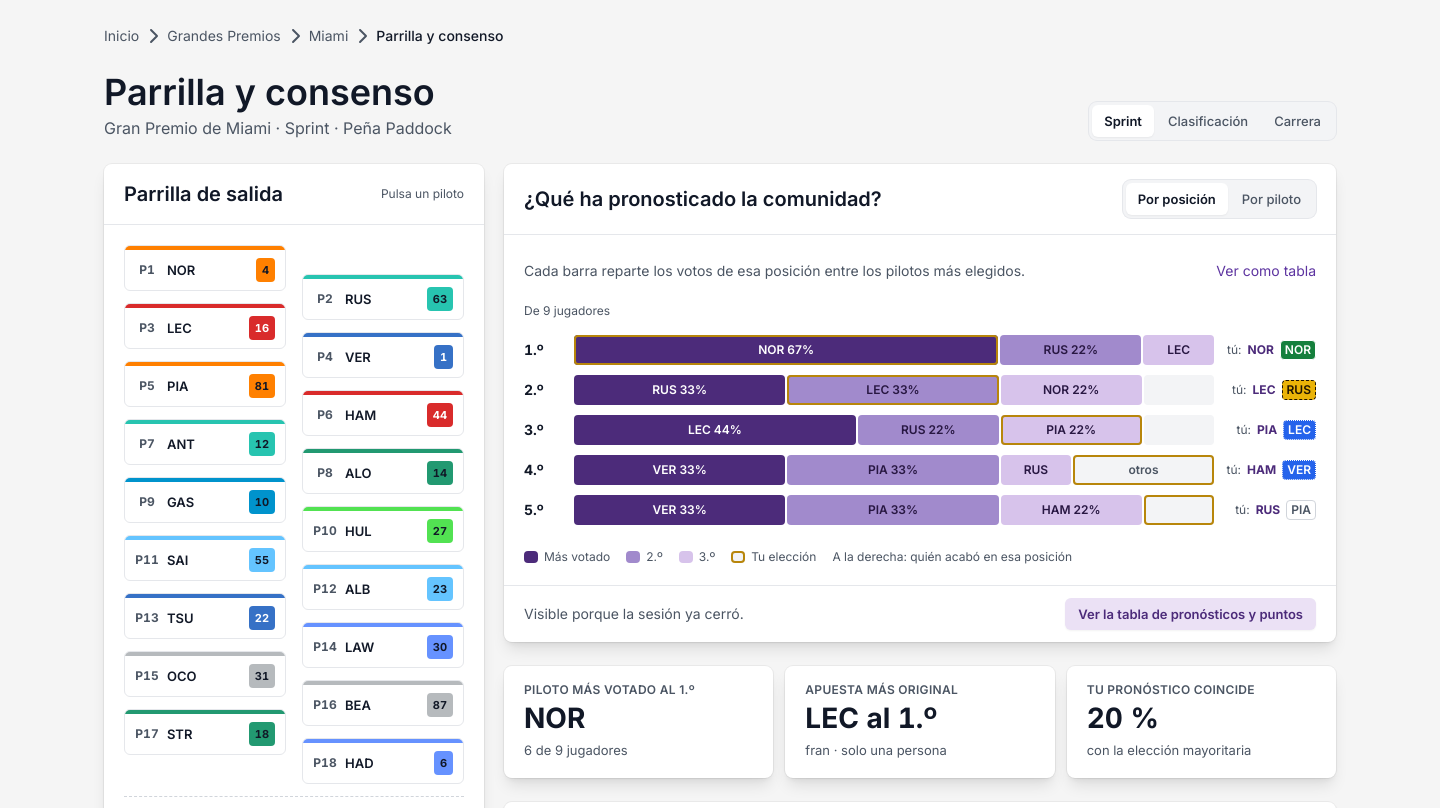
Test: Parrilla y consenso (G4) › grid: staggered, pressable, pit lane; picking a driver switches to «Por piloto»
Click the button with aria-label "P3 Charles Leclerc" at (205, 326), box [124, 303, 286, 349]
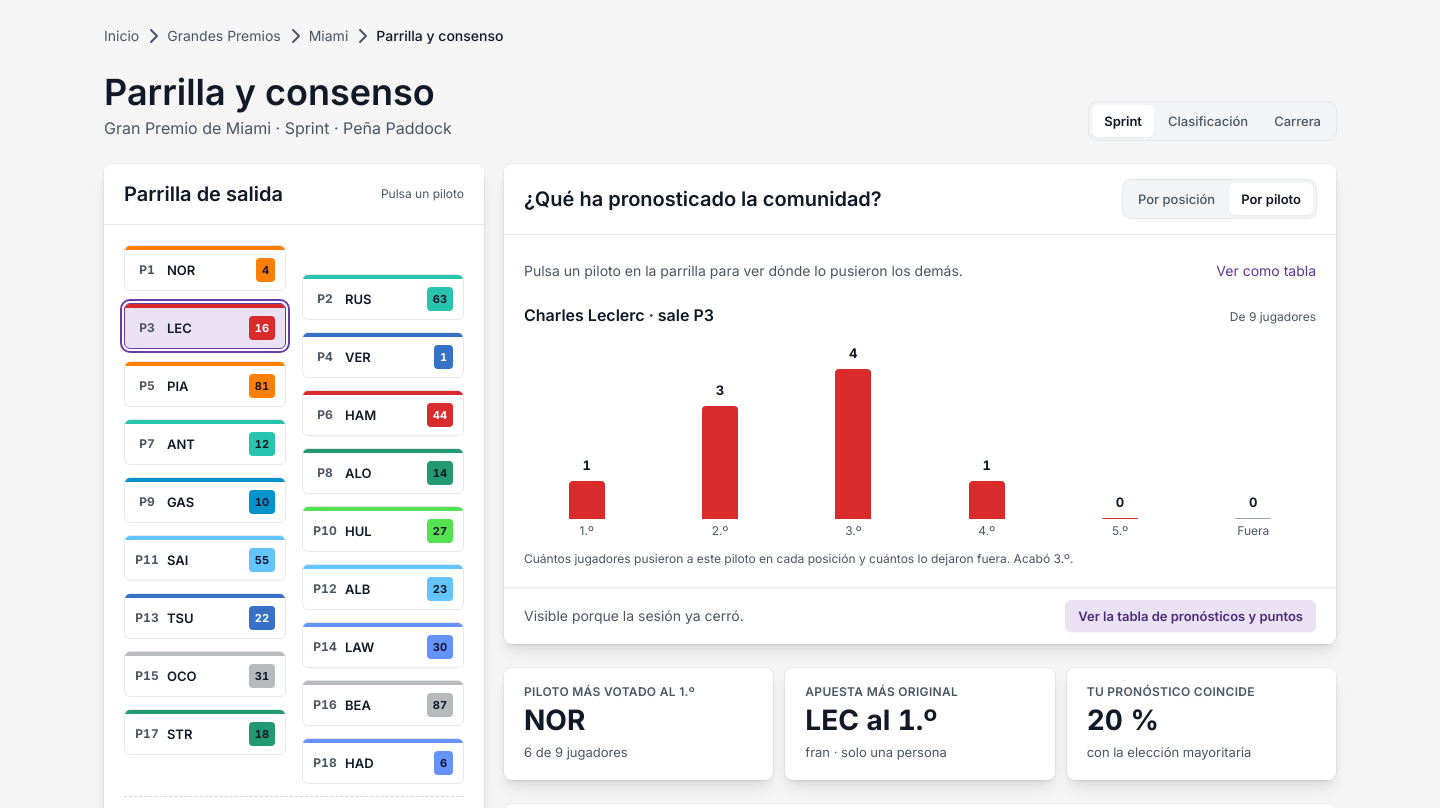
Expected: the text "Charles Leclerc · sale P3" is shown, [524, 303, 714, 327]
Expected: the text "Acabó 3.º." is shown, [524, 551, 1073, 566]
